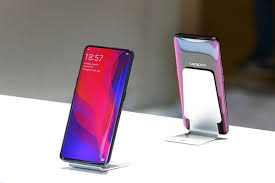oppo: (55, 43, 137, 173)
